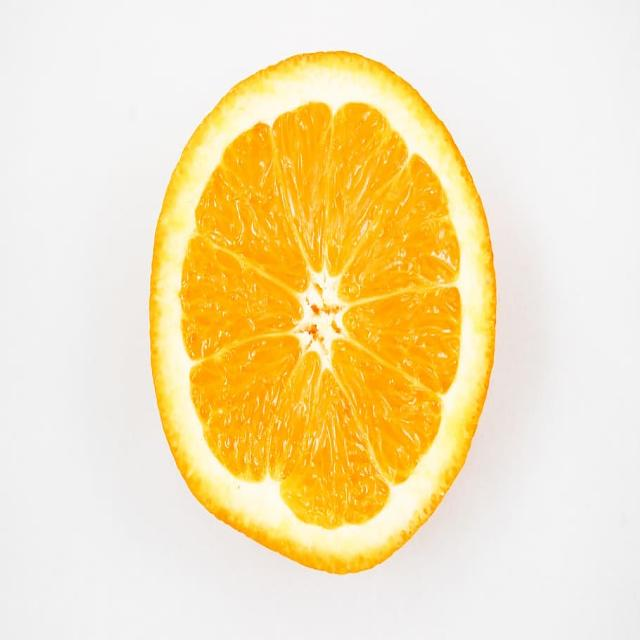orange: (146, 40, 501, 573)
